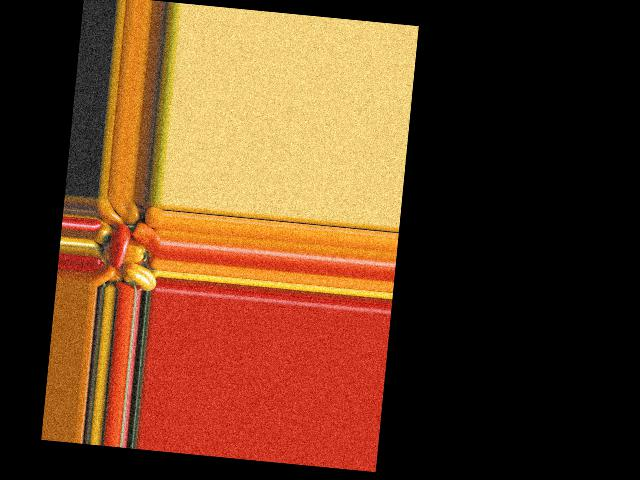bell_pepper: (123, 260, 157, 292)
